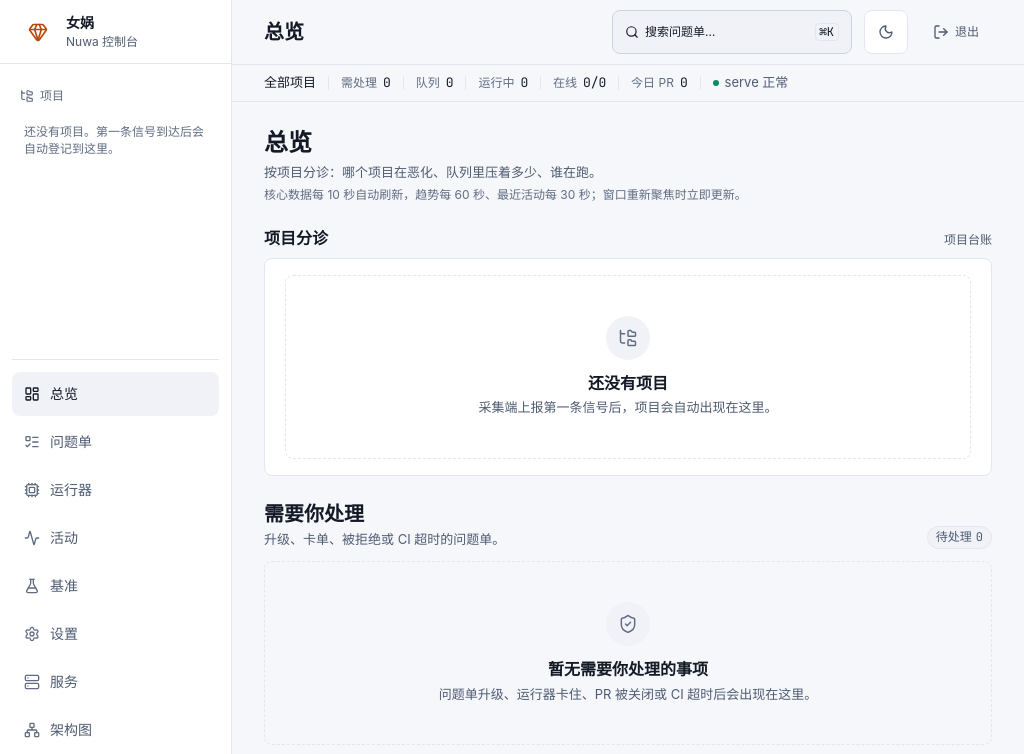
Scenario: CommandPalette › clears the query each time it reopens
Expected: the 1st heading "总览" is shown, [264, 20, 304, 44]
Press k
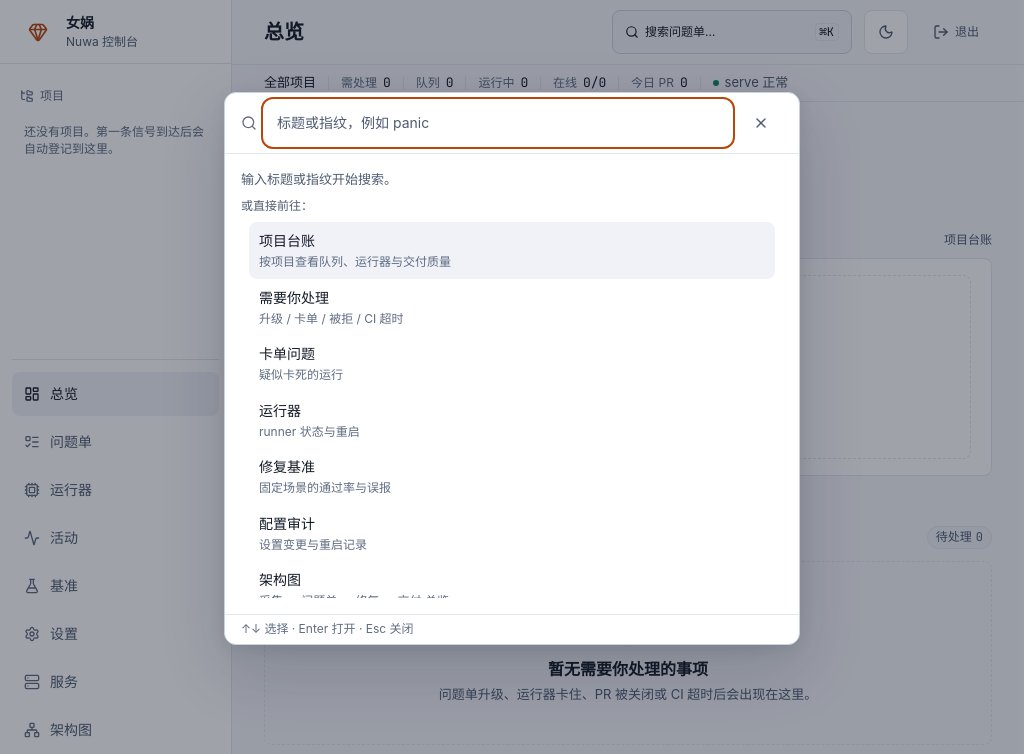
Type "panic" into the search field at x=498, y=123, box [265, 101, 731, 145]
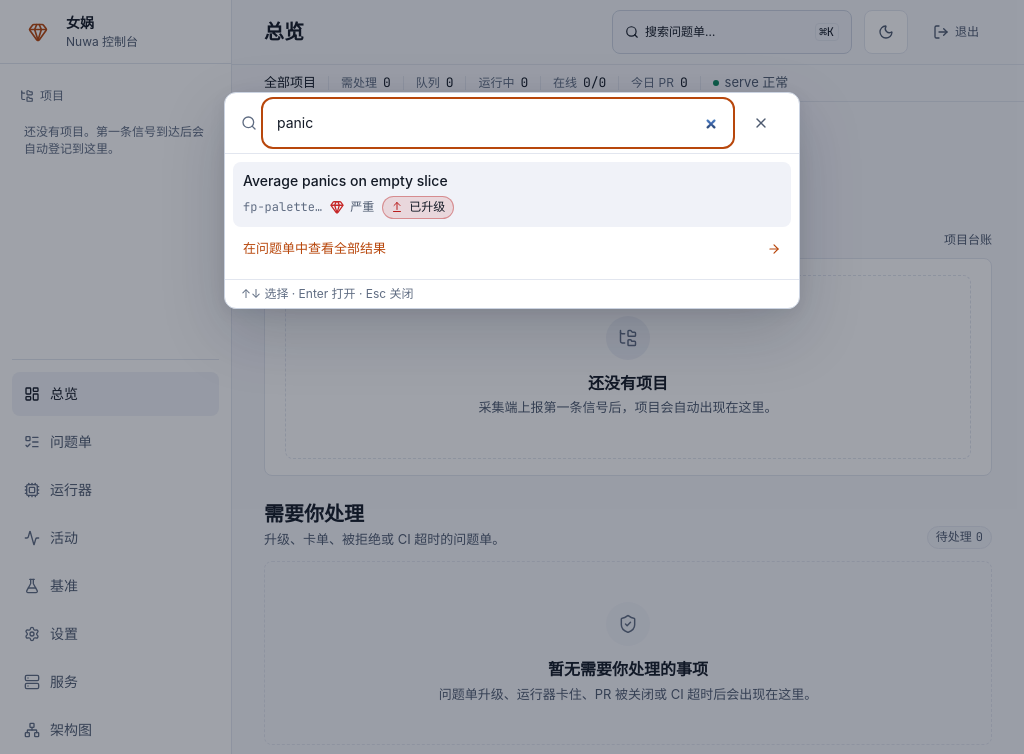
Expected: the link "Average panics on empty slice fp-palette… 严重 已升级" is shown, [243, 172, 454, 219]
Press k
(page scrolled)
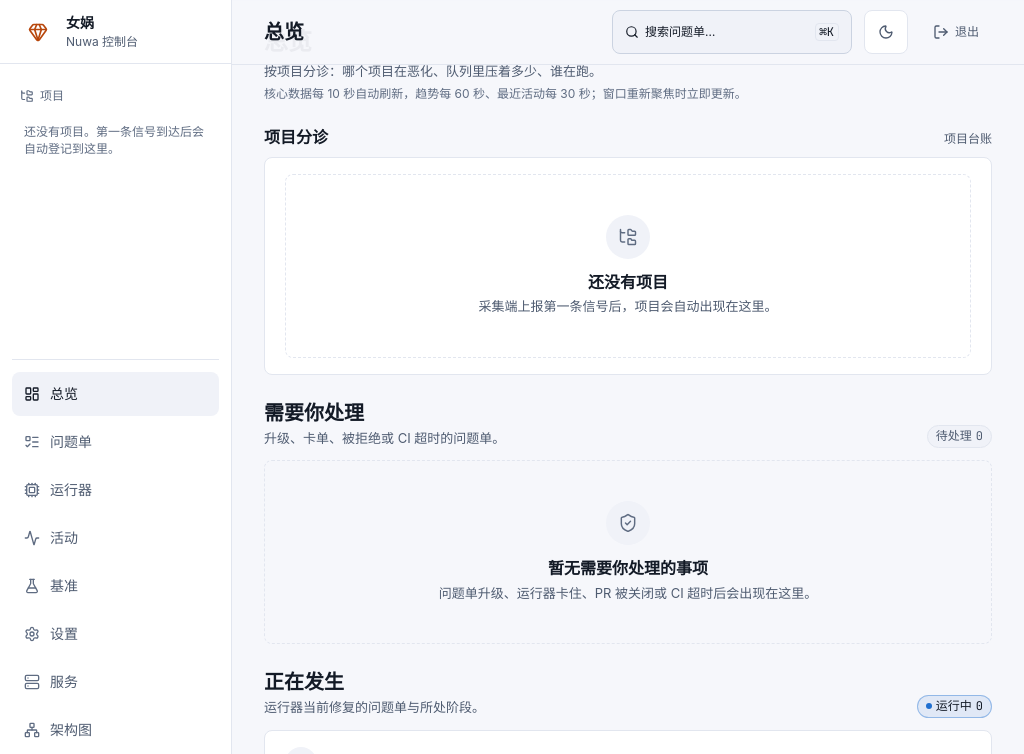
Press k
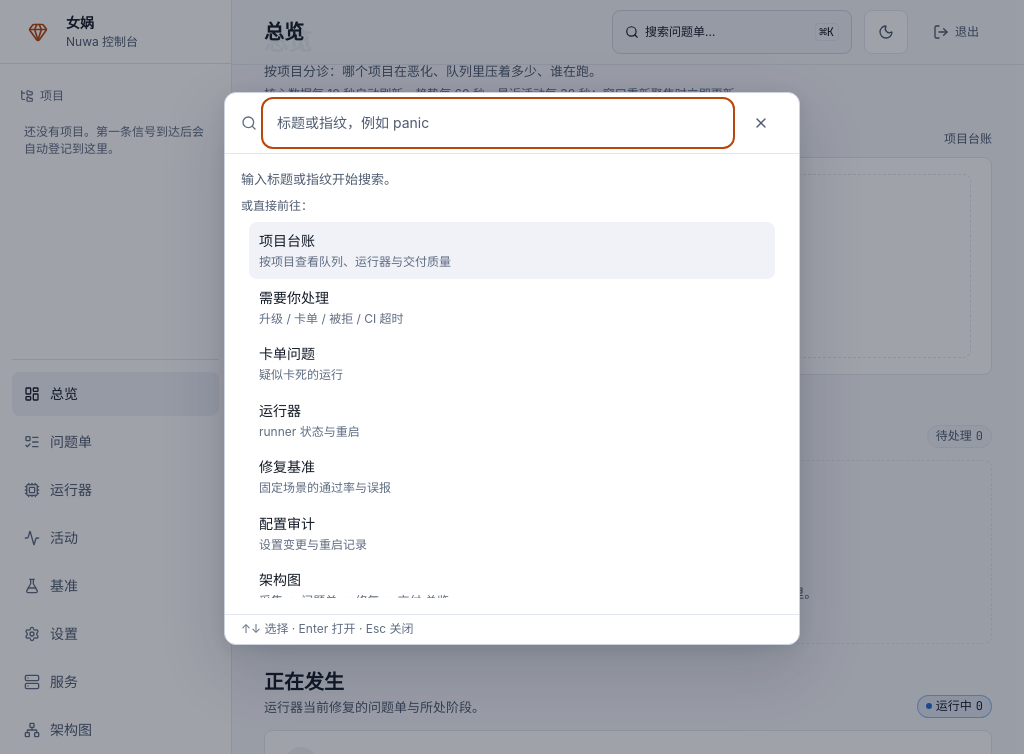
Expected: the link "Average panics on empty slice fp-palette… 严重 已升级" is not shown
Expected: the search field is empty, [265, 101, 731, 145]
Expected: the text "输入标题或指纹开始搜索。" is shown, [241, 171, 397, 187]
